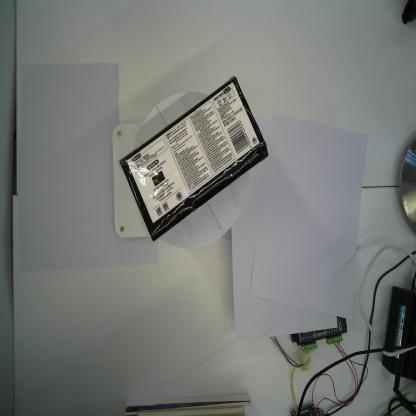Tissue: (119, 74, 268, 246)
